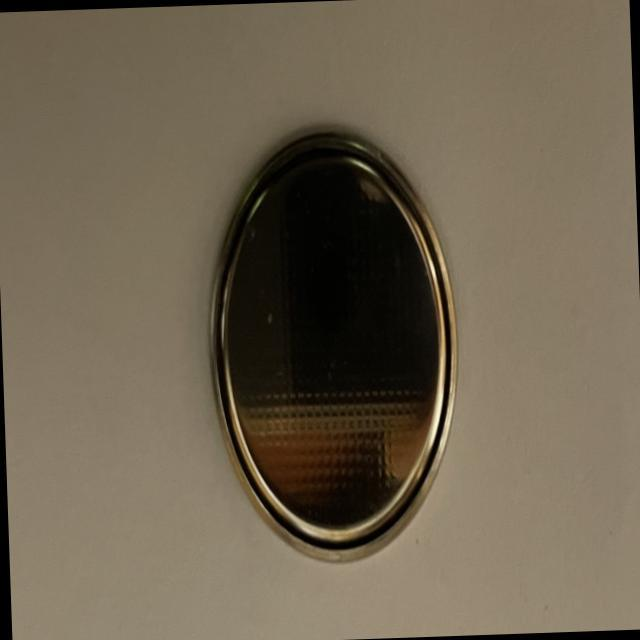COIN: (199, 124, 466, 570)
